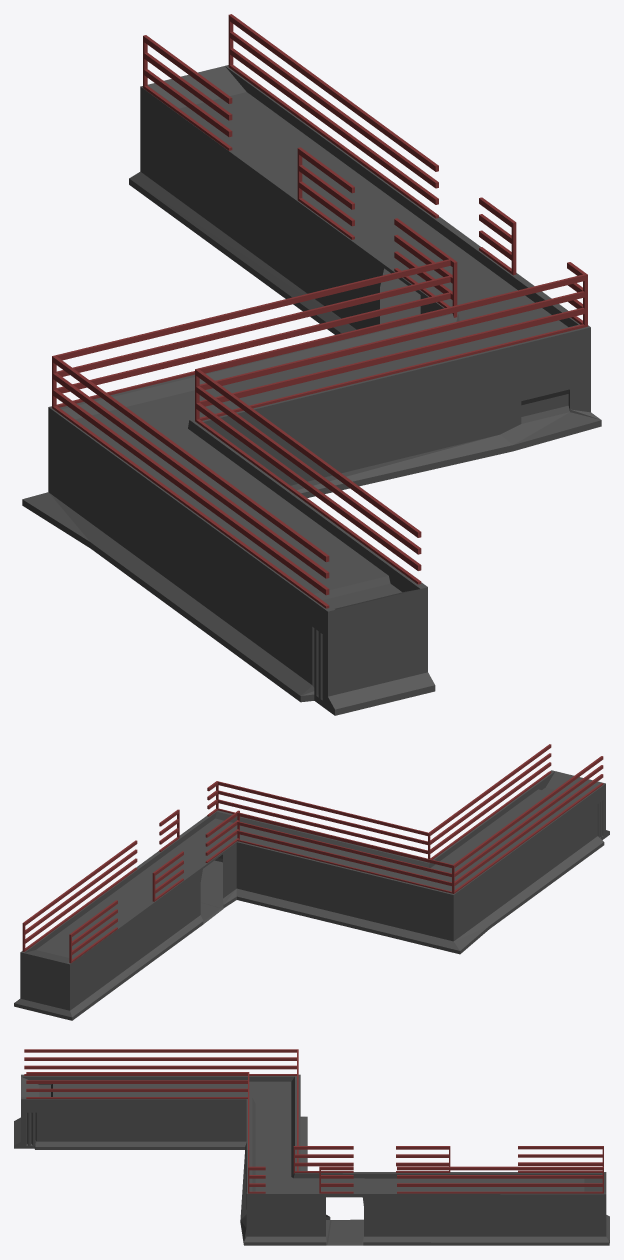
Rendered from ConveyorFoundation.fbx.
The picture shows the model from 3 angles, top to bottom: view 1: azimuth 30°, elevation 25°; view 2: azimuth 150°, elevation 25°; view 3: azimuth 270°, elevation 25°; orthographic projection. The views are drawn at different scales.
Parts seen in each view (by area): view 1: polySurface89, polySurface81, polySurface83, polySurface82, polySurface86, polySurface88, polySurface87, polySurface84, polySurface85; view 2: polySurface89, polySurface81, polySurface83, polySurface82, polySurface86, polySurface88, polySurface84, polySurface87, polySurface85; view 3: polySurface89, polySurface81, polySurface86, polySurface82, polySurface88, polySurface84, polySurface87, polySurface85, polySurface83.
Boxes of the visible parts, x1,y1,x2,y2 form: polySurface89: [22, 65, 601, 715]; polySurface81: [52, 259, 450, 608]; polySurface83: [198, 262, 587, 420]; polySurface82: [195, 368, 421, 584]; polySurface86: [228, 14, 438, 218]; polySurface88: [143, 35, 232, 150]; polySurface87: [297, 147, 354, 239]; polySurface84: [394, 218, 457, 317]; polySurface85: [479, 197, 516, 275]; polySurface89: [14, 770, 609, 1020]; polySurface81: [237, 756, 603, 893]; polySurface83: [207, 781, 427, 853]; polySurface82: [428, 744, 551, 859]; polySurface86: [22, 840, 137, 951]; polySurface88: [69, 900, 117, 963]; polySurface84: [205, 810, 239, 862]; polySurface87: [152, 851, 183, 901]; polySurface85: [159, 809, 179, 851]; polySurface89: [14, 1074, 609, 1245]; polySurface81: [24, 1049, 298, 1170]; polySurface86: [397, 1166, 603, 1193]; polySurface82: [26, 1072, 249, 1098]; polySurface88: [518, 1146, 603, 1172]; polySurface84: [293, 1146, 353, 1173]; polySurface87: [396, 1146, 450, 1172]; polySurface85: [319, 1166, 353, 1193]; polySurface83: [248, 1072, 265, 1193].
Size of the model in its own units: 47.81 by 13.4 by 95.63.
